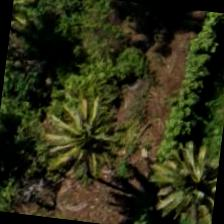Kelapa_Sawit: (37, 84, 137, 184), (146, 130, 222, 223)
